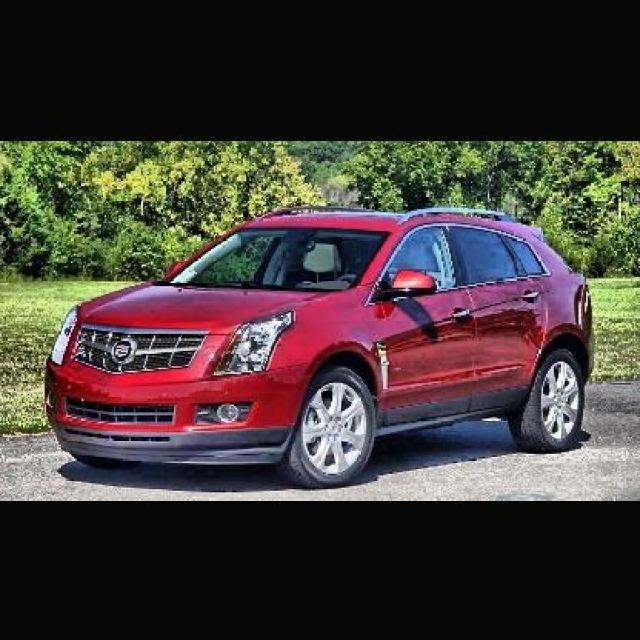maroon: (48, 206, 593, 473)
